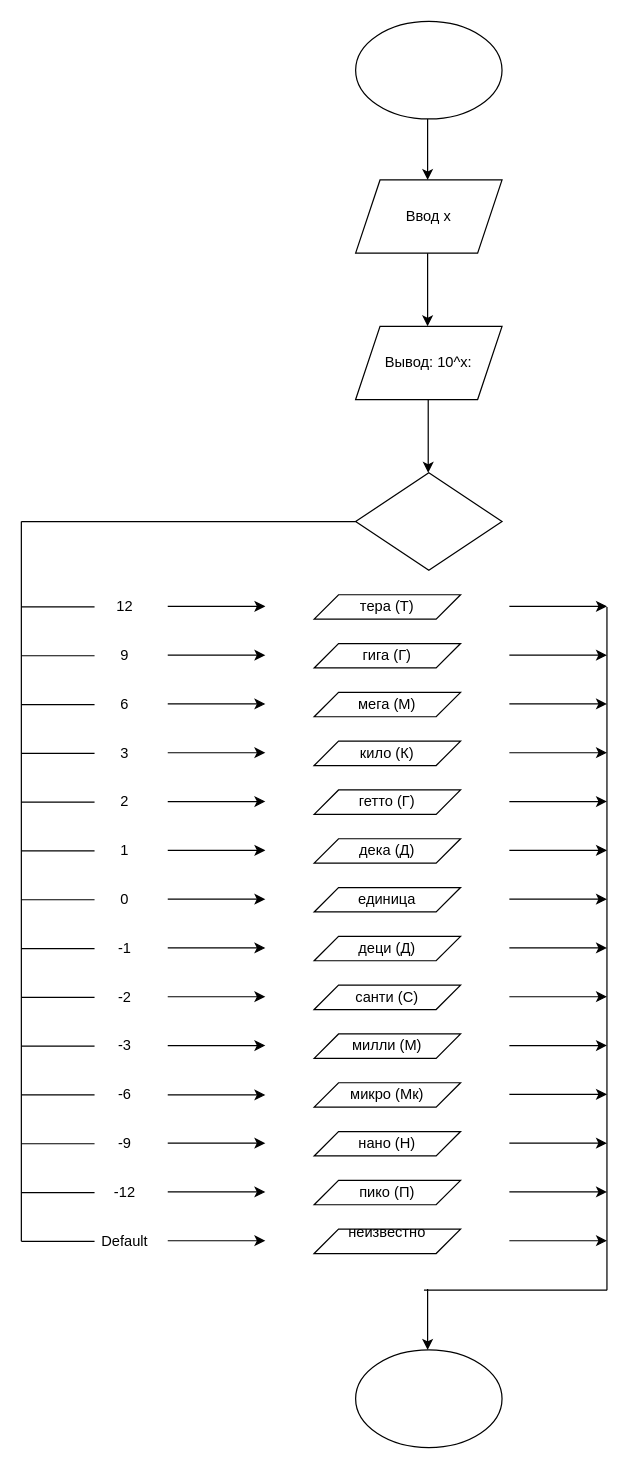
Some shapes in this 638 by 1469 pixel diagram are drawn without their labels. Each missing label, with the box of its shape:
Значение x: (354, 472, 502, 570)
Конец: (354, 1349, 502, 1448)
Начало: (354, 20, 502, 119)
